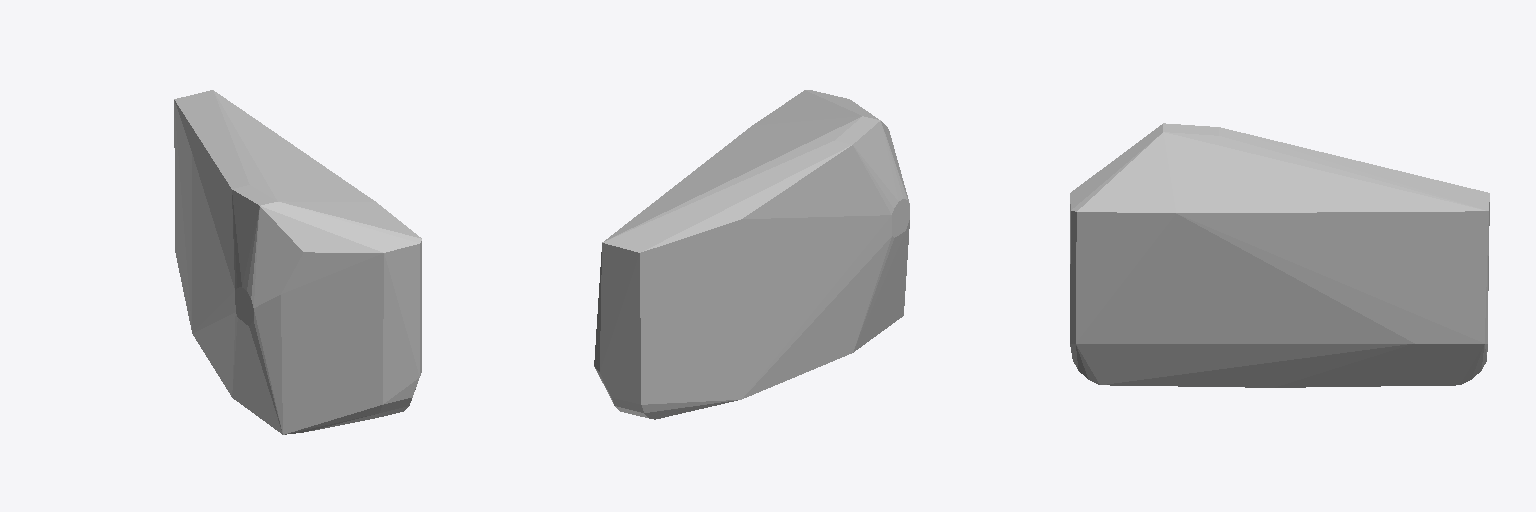
Rendered from arx5_gripper_right_finger001.obj.
The picture shows the model from 3 angles: view 1: azimuth 30°, elevation 25°; view 2: azimuth 150°, elevation 25°; view 3: azimuth 270°, elevation 25°; orthographic projection.
Bounding box in the file's own units: 0.0243 × 0.034 × 0.061.